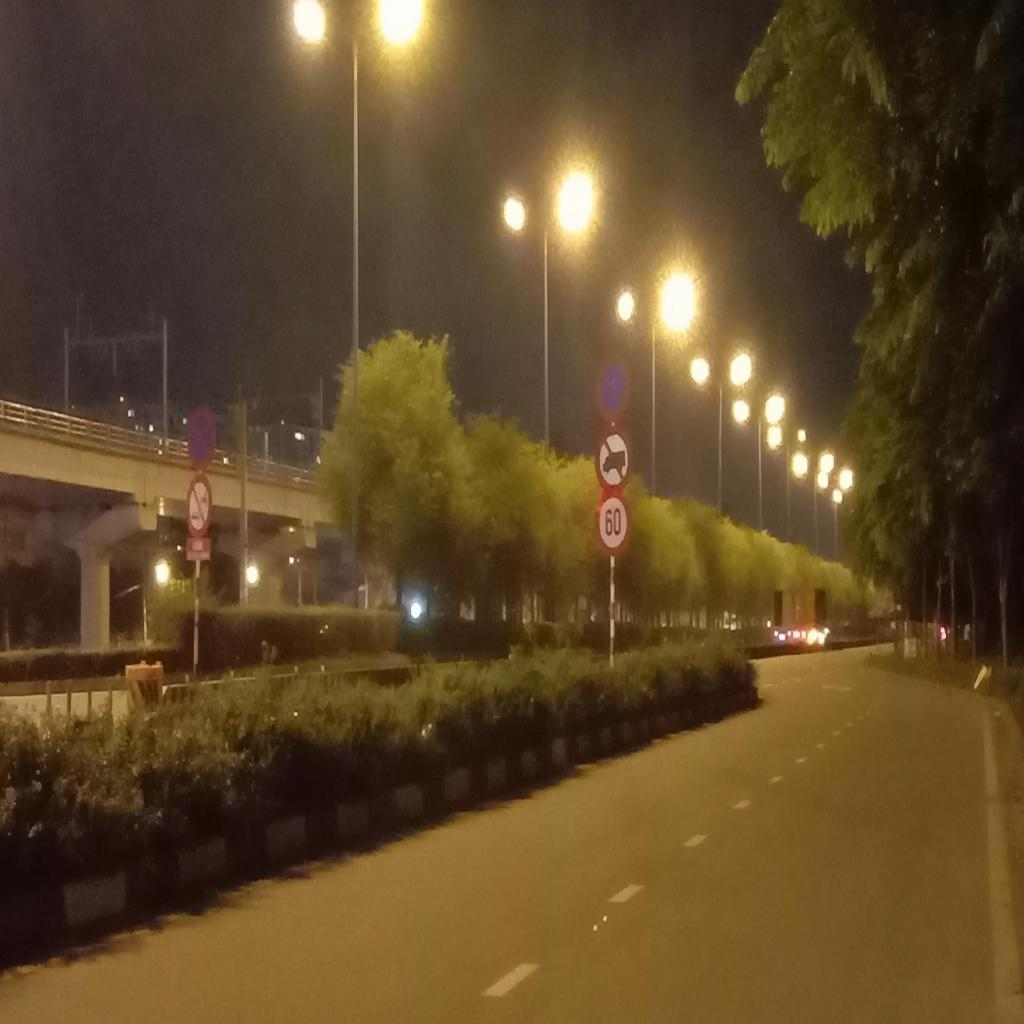cam_do_xe: (595, 350, 631, 421)
cam_dung_xe_va_do_xe: (186, 404, 218, 470)
cam_o_to_tai: (595, 426, 632, 496)
cam_xe_2_banh_va_xe_3_banh_co_dong_co: (185, 473, 213, 538)
toc_do_toi_da_60: (596, 493, 632, 555)
